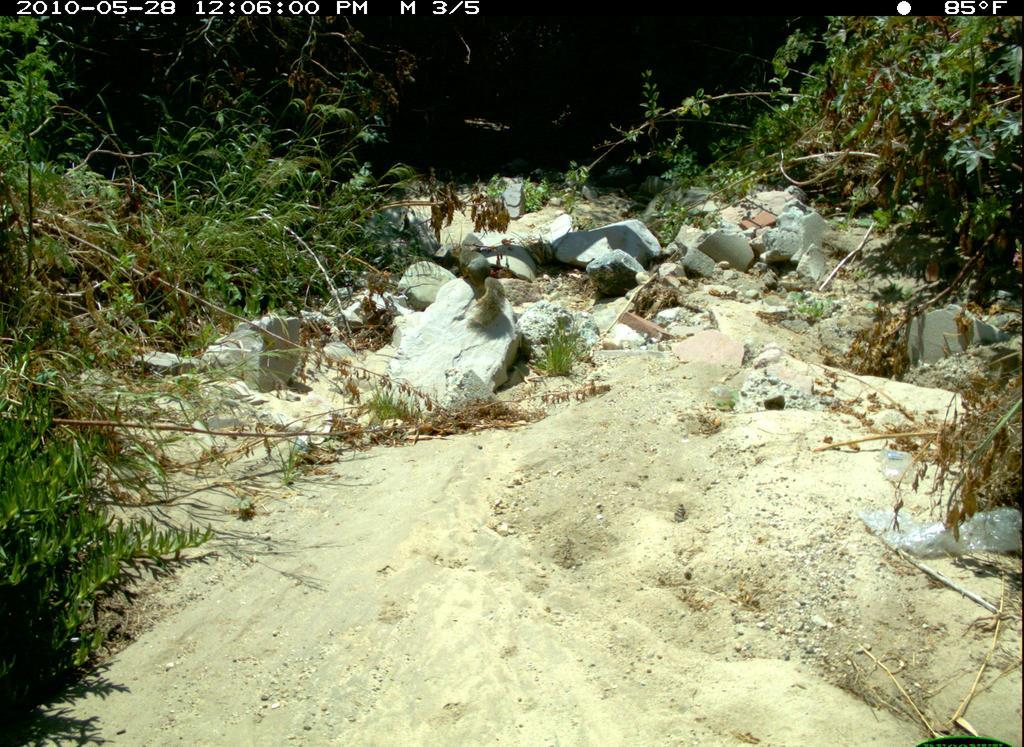squirrel: (445, 240, 510, 336)
